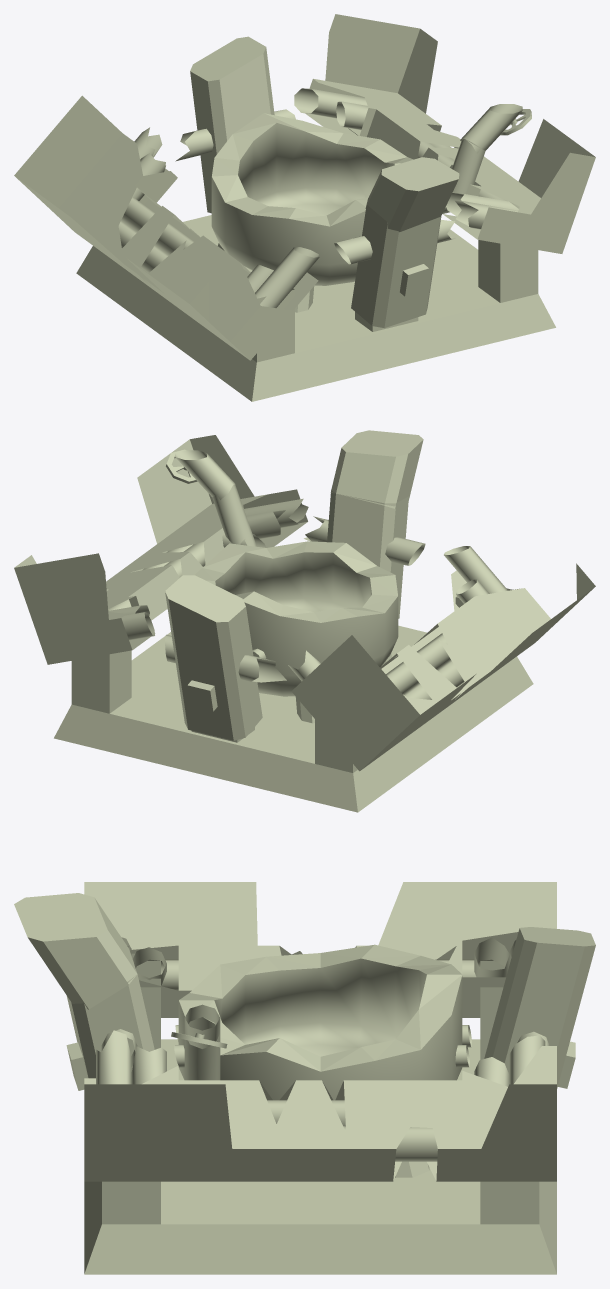
Rendered from zirnox_destroyed.obj.
3 renders of one model, top to bottom at view 1: azimuth 30°, elevation 25°; view 2: azimuth 150°, elevation 25°; view 3: azimuth 270°, elevation 25°, orthographic. The views are drawn at different scales.
Visible parts, largest first — view 1: Plane; view 2: Plane; view 3: Plane.
Part boxes in pixels (<box>): Plane: <box>14,14,595,401</box>; Plane: <box>14,430,595,812</box>; Plane: <box>14,882,595,1274</box>.
Bounding box in the file's own units: 6.67 × 3.1 × 6.15.
